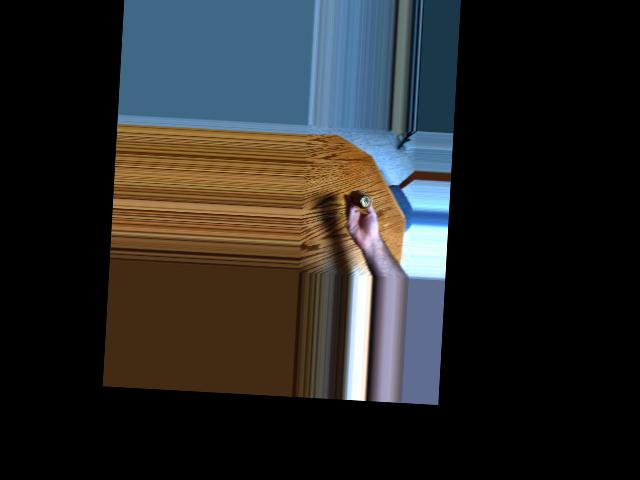sweet_potato: (347, 187, 376, 215)
